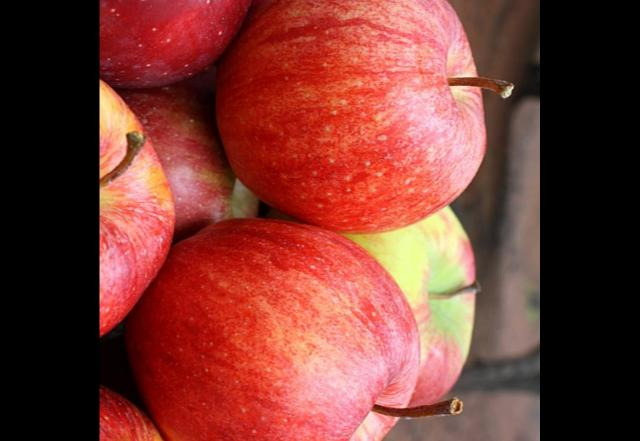Apples: (217, 0, 491, 232), (136, 219, 419, 441), (99, 0, 272, 86)
